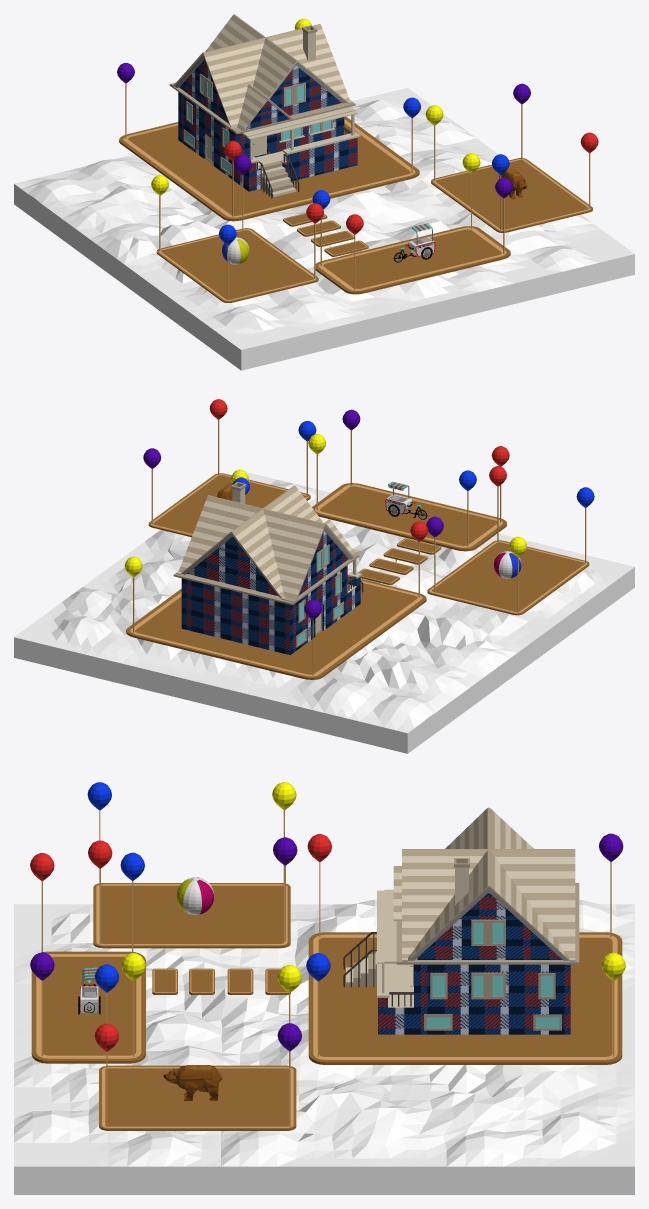
3 views of the same model, one above another, from view 1: azimuth 30°, elevation 25°; view 2: azimuth 150°, elevation 25°; view 3: azimuth 270°, elevation 25° (orthographic). The views are drawn at different scales.
Parts seen in each view (by area): view 1: Cube.013, Cube.171, VEHICLES_SNOWBAL_BIKE, OBJRANDOM_BEACHBALL; view 2: Cube.013, Cube.171, VEHICLES_SNOWBAL_BIKE, OBJRANDOM_BEACHBALL; view 3: Cube.013, Cube.171, ANIMAL_OSO, OBJRANDOM_BEACHBALL, VEHICLES_SNOWBAL_BIKE.
Part boxes in pixels (left/top/right/bottom): Cube.013: left=14, top=18, right=634, bottom=370; Cube.171: left=169, top=14, right=360, bottom=198; VEHICLES_SNOWBAL_BIKE: left=393, top=223, right=435, bottom=262; OBJRANDOM_BEACHBALL: left=222, top=237, right=249, bottom=264; Cube.013: left=14, top=399, right=634, bottom=753; Cube.171: left=173, top=482, right=363, bottom=654; VEHICLES_SNOWBAL_BIKE: left=385, top=481, right=427, bottom=519; OBJRANDOM_BEACHBALL: left=494, top=551, right=521, bottom=578; Cube.013: left=14, top=782, right=634, bottom=1194; Cube.171: left=343, top=807, right=579, bottom=1034; ANIMAL_OSO: left=163, top=1065, right=222, bottom=1100; OBJRANDOM_BEACHBALL: left=176, top=877, right=213, bottom=915; VEHICLES_SNOWBAL_BIKE: left=77, top=967, right=101, bottom=1014.
Size of the model in its own units: 4000 by 1688 by 4000.
Materials: 36 (2 with a texture image).
